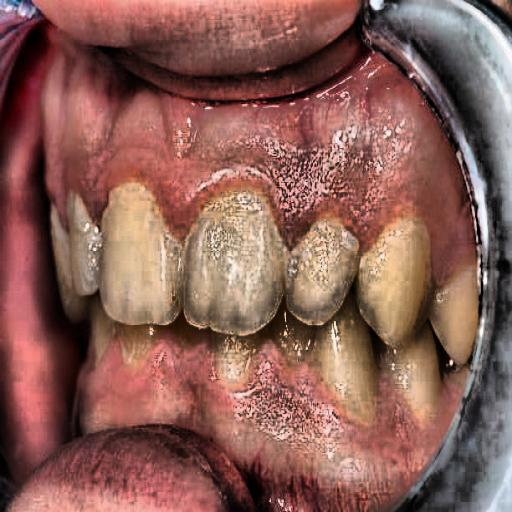Gingivitis: (34, 70, 367, 232)
